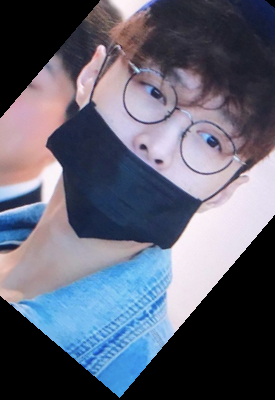mask_weared_incorrect: (46, 1, 275, 250)
